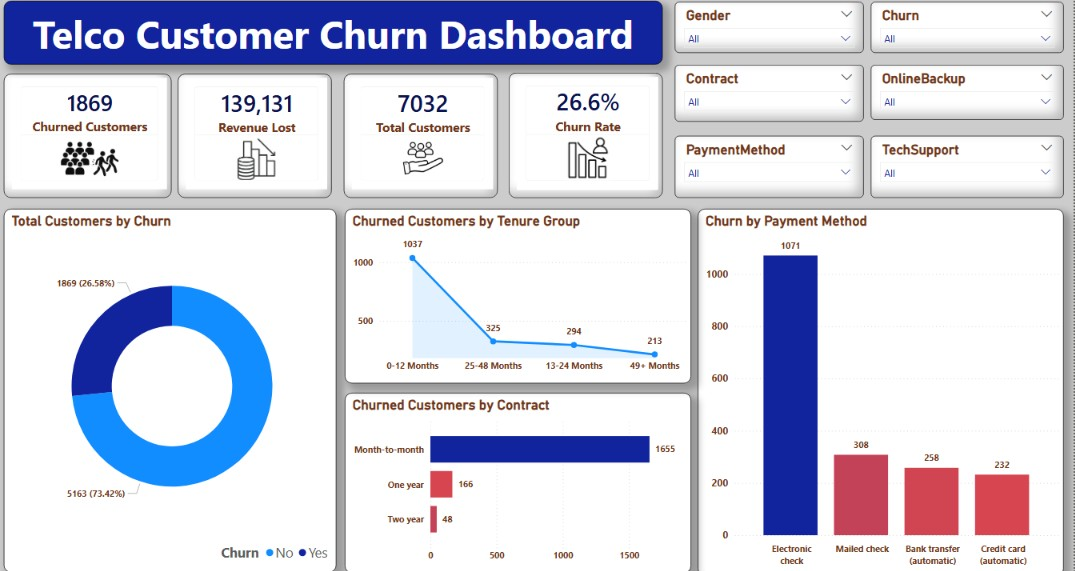

The page's visual inventory and layout, read from the dashboard file:
{"tool":"powerbi","page":{"name":"Churn Overview ","canvas":[1500,820],"ordinal":0},"visuals":[{"type":"cardVisual","fields":{"Data":["Telco_Customer_Churn_Cleaned.Revenue Lost"]},"box":[252.5,106.8,214.5,172.7],"z":0},{"type":"cardVisual","fields":{"Data":["Telco_Customer_Churn_Cleaned.Total Customers"]},"box":[483.6,106.8,214.5,172.7],"z":1000},{"type":"cardVisual","fields":{"Data":["Telco_Customer_Churn_Cleaned.Churn Rate"]},"box":[713.4,105.5,214.5,174.1],"z":2000},{"type":"cardVisual","fields":{"Data":["Telco_Customer_Churn_Cleaned.Churned Customers"]},"box":[10.1,106.8,234,172.7],"z":3000},{"type":"donutChart","fields":{"Category":["Telco_Customer_Churn_Cleaned.Churn"],"Y":["Telco_Customer_Churn_Cleaned.Total Customers"]},"box":[9.6,295.9,463.1,506.5],"z":4000},{"type":"columnChart","title":"Churn by Payment Method","fields":{"Category":["Telco_Customer_Churn_Cleaned.PaymentMethod"],"Y":["Telco_Customer_Churn_Cleaned.Churned Customers"]},"box":[976.1,295.9,509.8,511.4],"z":5000},{"type":"slicer","fields":{"Values":["Telco_Customer_Churn_Cleaned.gender"]},"box":[944.6,7,263.2,71],"z":6000},{"type":"slicer","fields":{"Values":["Telco_Customer_Churn_Cleaned.Contract"]},"box":[944.6,94.3,263.2,79.4],"z":7000},{"type":"slicer","fields":{"Values":["Telco_Customer_Churn_Cleaned.PaymentMethod"]},"box":[944.6,193.2,263.2,86.3],"z":8000},{"type":"textbox","box":[10.1,5.2,917.8,89.1],"z":9000},{"type":"slicer","fields":{"Values":["Telco_Customer_Churn_Cleaned.TechSupport"]},"box":[1217.6,193.2,268.8,86.3],"z":10000},{"type":"slicer","fields":{"Values":["Telco_Customer_Churn_Cleaned.OnlineBackup"]},"box":[1217.6,94.3,268.8,76.6],"z":11000},{"type":"slicer","fields":{"Values":["Telco_Customer_Churn_Cleaned.Churn"]},"box":[1217.6,7,268.8,71],"z":12000},{"type":"clusteredBarChart","fields":{"Y":["Telco_Customer_Churn_Cleaned.Churned Customers"],"Category":["Telco_Customer_Churn_Cleaned.Contract"]},"box":[484,551.6,482.4,250.9],"z":13000},{"type":"lineChart","fields":{"Category":["Telco_Customer_Churn_Cleaned.Tenure Group"],"Y":["Telco_Customer_Churn_Cleaned.Churned Customers"]},"box":[484,295.9,482.4,242.8],"z":14000}]}

Visuals, with their boxes in screenshot pixels (x1, y1, x2, y2), scaled from the page's 1500x820 canvas onto the 1075x571 screenshot:
cardVisual - Telco_Customer_Churn_Cleaned.Revenue Lost: bbox=[181, 74, 335, 195]
cardVisual - Telco_Customer_Churn_Cleaned.Total Customers: bbox=[347, 74, 500, 195]
cardVisual - Telco_Customer_Churn_Cleaned.Churn Rate: bbox=[511, 73, 665, 195]
cardVisual - Telco_Customer_Churn_Cleaned.Churned Customers: bbox=[7, 74, 175, 195]
donutChart - Telco_Customer_Churn_Cleaned.Churn x Telco_Customer_Churn_Cleaned.Total Customers: bbox=[7, 206, 339, 559]
"Churn by Payment Method" columnChart: bbox=[700, 206, 1065, 562]
slicer - Telco_Customer_Churn_Cleaned.gender: bbox=[677, 5, 866, 54]
slicer - Telco_Customer_Churn_Cleaned.Contract: bbox=[677, 66, 866, 121]
slicer - Telco_Customer_Churn_Cleaned.PaymentMethod: bbox=[677, 135, 866, 195]
textbox: bbox=[7, 4, 665, 66]
slicer - Telco_Customer_Churn_Cleaned.TechSupport: bbox=[873, 135, 1065, 195]
slicer - Telco_Customer_Churn_Cleaned.OnlineBackup: bbox=[873, 66, 1065, 119]
slicer - Telco_Customer_Churn_Cleaned.Churn: bbox=[873, 5, 1065, 54]
clusteredBarChart - Telco_Customer_Churn_Cleaned.Churned Customers x Telco_Customer_Churn_Cleaned.Contract: bbox=[347, 384, 693, 559]
lineChart - Telco_Customer_Churn_Cleaned.Tenure Group x Telco_Customer_Churn_Cleaned.Churned Customers: bbox=[347, 206, 693, 375]
